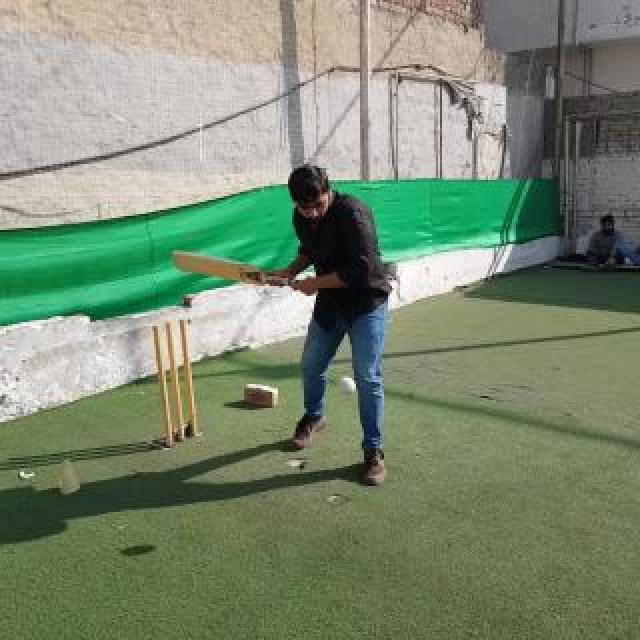ball: (338, 376, 356, 396)
bat: (172, 251, 286, 287)
